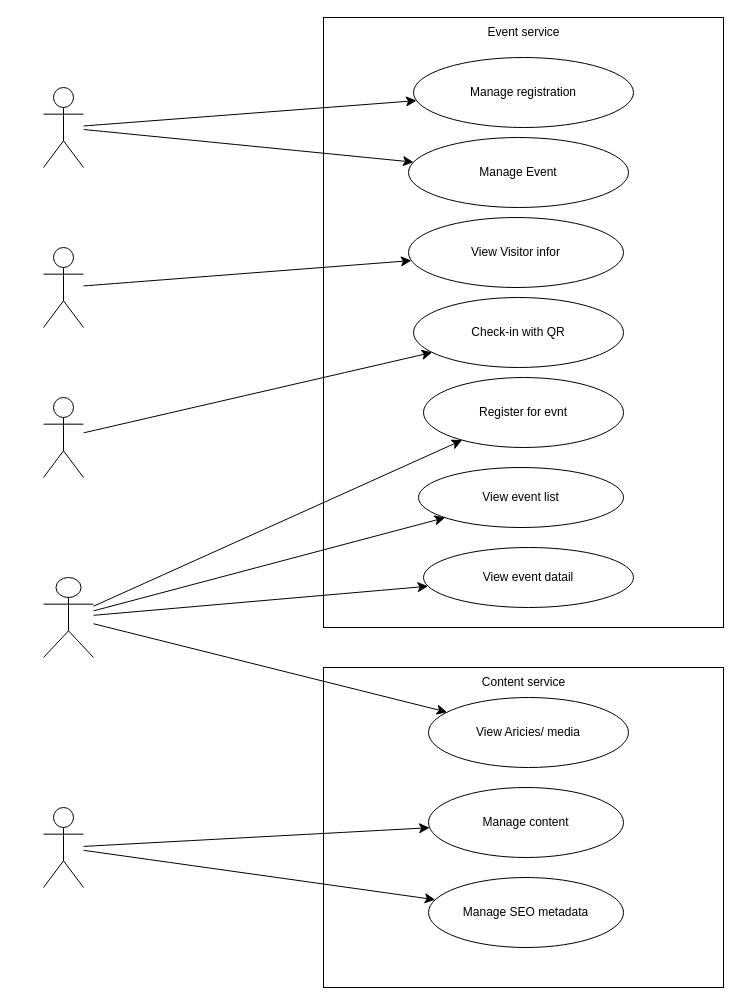
The diagram is 741 pixels wide and 1005 high, and some of its shapes have lost their labels. The shapes that lost their labels are listed below. From the top down, each one's centre as x and y in pixels, then its label:
At point 63,127: "Event operator".
At point 63,287: "Sponsor".
At point 63,437: "Visitor".
At point 68,617: "Guest".
At point 63,847: "Content manager".
